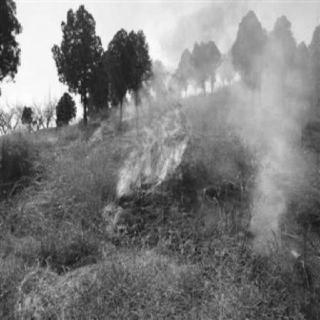Fire: (104, 76, 196, 238), (158, 224, 182, 252)
